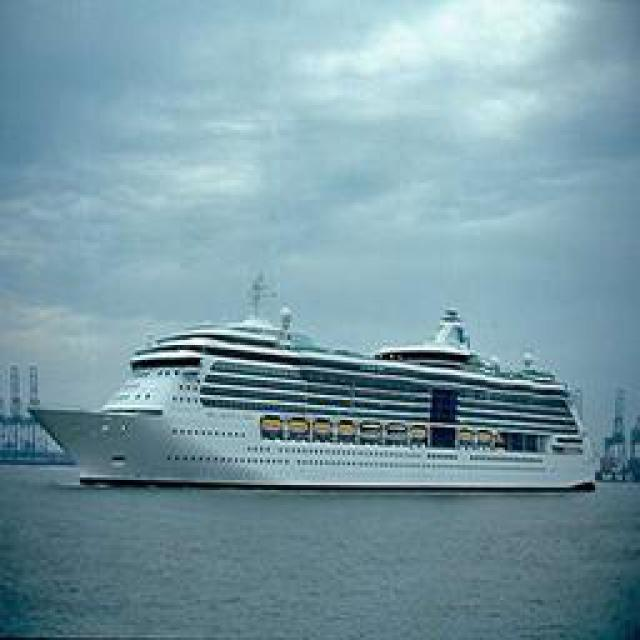Ship: (28, 299, 596, 492)
